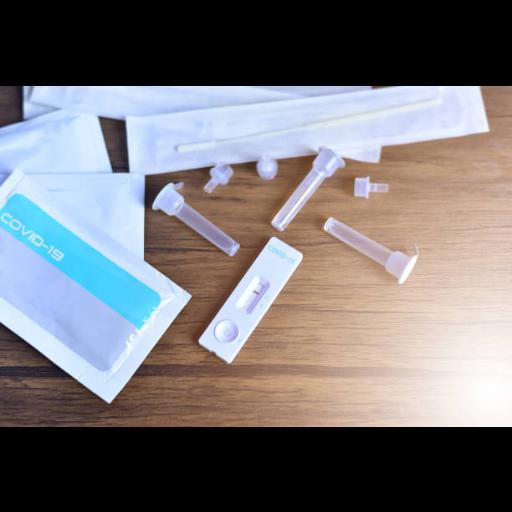Neg: (196, 235, 305, 364)
